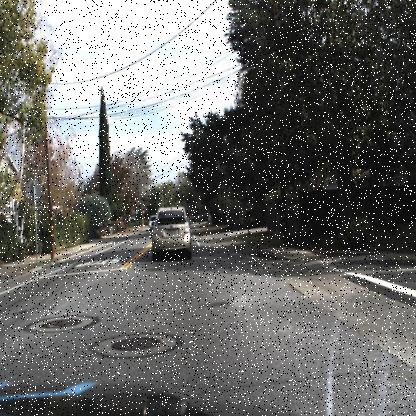car: (147, 195, 193, 262)
